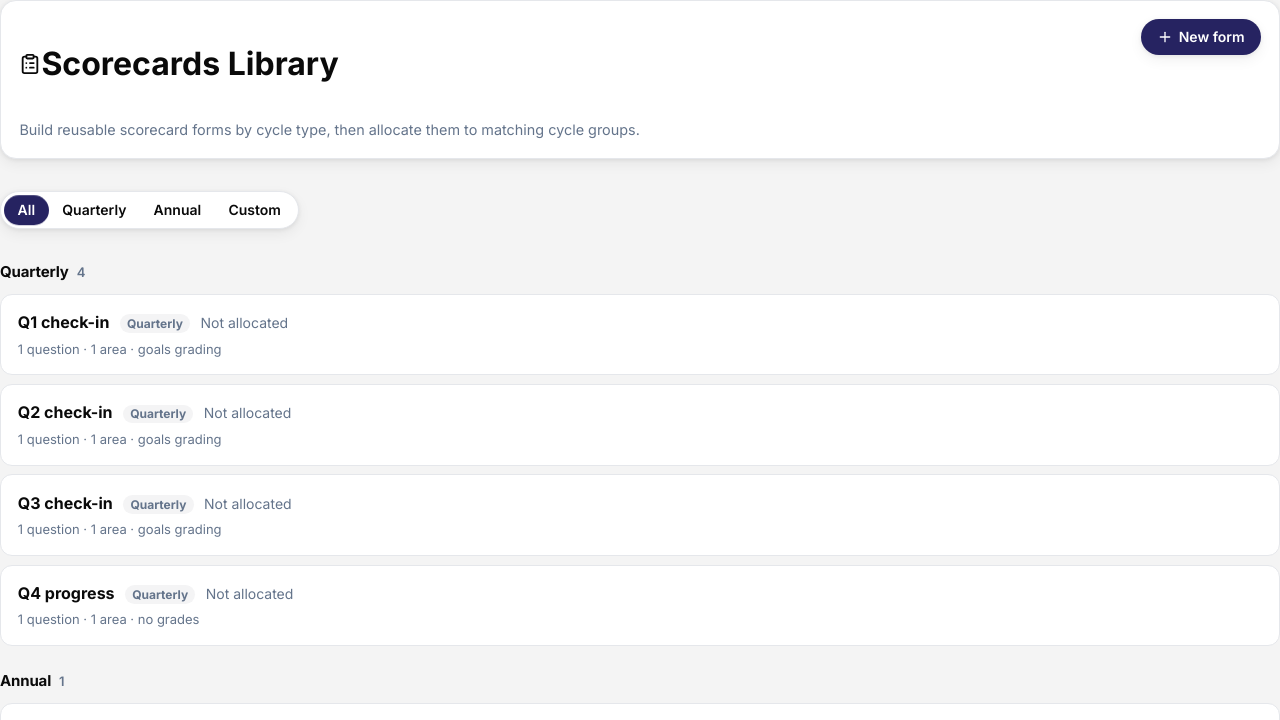
Test: ScorecardsBuilderPage › filters the library by cycle type
Expected: the heading "Scorecards Library" is shown, [19,44,339,83]
Click the button "Annual".
click(177, 210)  # box [140,195,215,225]
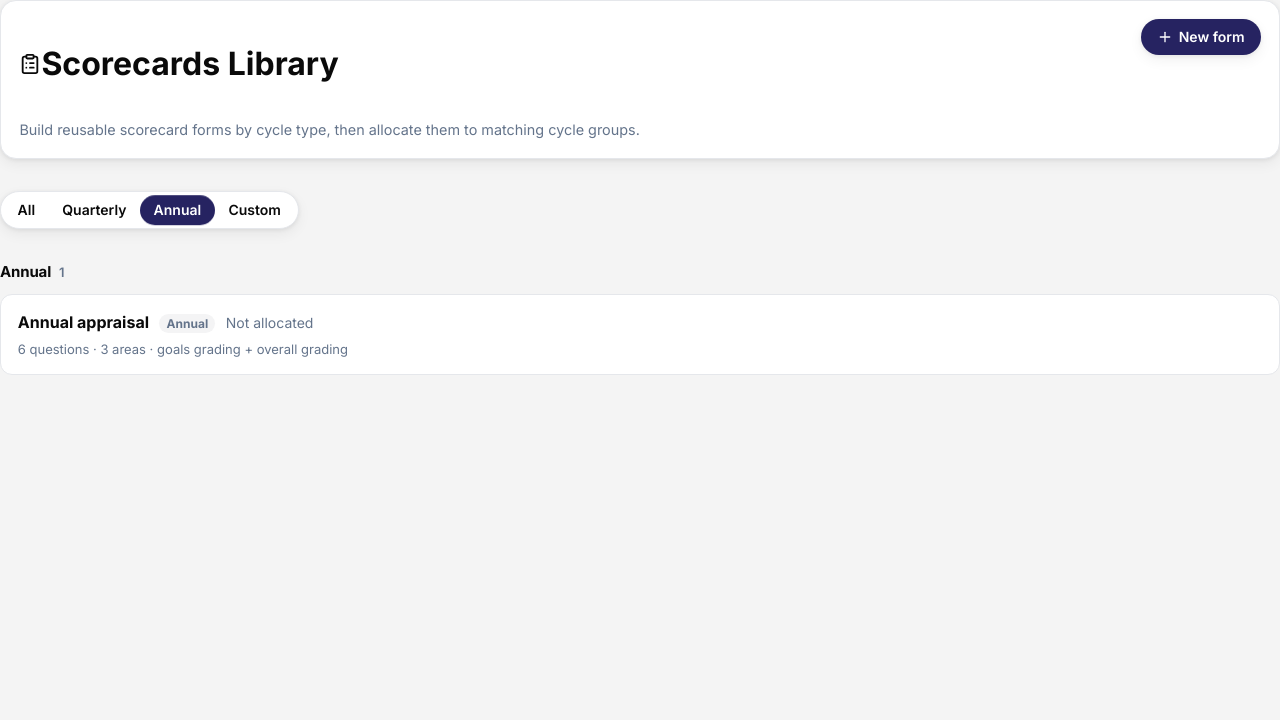
Expected: the text "Annual appraisal" is shown, [18,310,149,334]
Expected: the link "Q1 check-in" is gone
